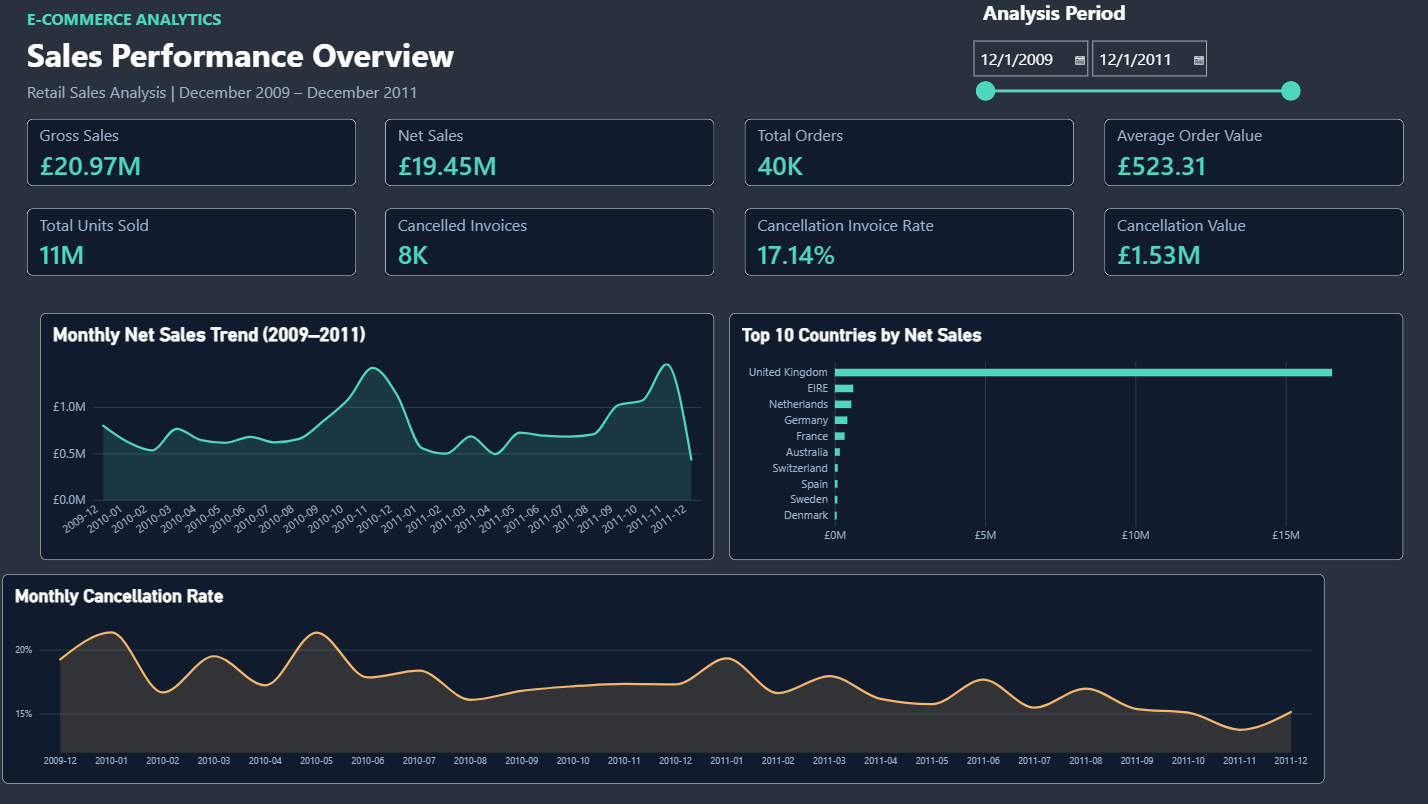

The dashboard page shown, as its layout file describes it:
{"tool":"powerbi","page":{"name":"Executive Overview","canvas":[1920,1080],"ordinal":0},"visuals":[{"type":"cardVisual","fields":{"Data":["Retail_Combined.Gross Sales"]},"box":[40,160,440,90],"z":0},{"type":"cardVisual","fields":{"Data":["Retail_Combined.Total Orders"]},"box":[1000,160,440,90],"z":1000},{"type":"cardVisual","fields":{"Data":["Retail_Combined.Average Order Value"]},"box":[1480,160,400,90],"z":2000},{"type":"cardVisual","fields":{"Data":["Retail_Combined.Total Units Sold"]},"box":[40,280,440,90],"z":3000},{"type":"cardVisual","fields":{"Data":["Retail_Combined.Cancelled Orders"]},"box":[520,280,440,90],"z":4000},{"type":"cardVisual","fields":{"Data":["Retail_Combined.Cancellation Rate"]},"box":[1000,280,440,90],"z":5000},{"type":"cardVisual","fields":{"Data":["Retail_Combined.Cancellation Value"]},"box":[1480,280,400,90],"z":6000},{"type":"cardVisual","fields":{"Data":["Retail_Combined.Net Sales"]},"box":[520,160,440,90],"z":7000},{"type":"lineChart","title":"Monthly Net Sales Trend (2009–2011)","fields":{"Category":["Retail_Combined.YearMonth"],"Y":["Retail_Combined.Net Sales"]},"box":[58.8,419.7,900,330],"z":8000},{"type":"clusteredBarChart","title":"Top 10 Countries by Net Sales","fields":{"Category":["Retail_Combined.Country"],"Y":["Retail_Combined.Net Sales"]},"box":[979.3,419.7,900,330],"z":9000},{"type":"lineChart","title":"Monthly Cancellation Rate","fields":{"Category":["Retail_Combined.YearMonth"],"Y":["Retail_Combined.Cancellation Rate"]},"box":[9.1,767.7,1766,280],"z":10000},{"type":"textbox","box":[40,45,643.9,100],"z":11000},{"type":"textbox","box":[40,110,850,51.2],"z":12000},{"type":"textbox","box":[40,12,440,150],"z":13000},{"type":"slicer","fields":{"Values":["Retail_Combined.MonthStart"]},"box":[1296.9,50,447.4,90.9],"z":14000},{"type":"textbox","box":[1317.4,0,245.3,45.4],"z":15000}]}

Visuals, with their boxes in screenshot pixels (x1, y1, x2, y2), scaled from the page's 1920x1080 canvas onto the 1428x804 screenshot:
cardVisual - Retail_Combined.Gross Sales: pyautogui.locateOnScreen(30, 119, 357, 186)
cardVisual - Retail_Combined.Total Orders: pyautogui.locateOnScreen(744, 119, 1071, 186)
cardVisual - Retail_Combined.Average Order Value: pyautogui.locateOnScreen(1101, 119, 1398, 186)
cardVisual - Retail_Combined.Total Units Sold: pyautogui.locateOnScreen(30, 208, 357, 275)
cardVisual - Retail_Combined.Cancelled Orders: pyautogui.locateOnScreen(387, 208, 714, 275)
cardVisual - Retail_Combined.Cancellation Rate: pyautogui.locateOnScreen(744, 208, 1071, 275)
cardVisual - Retail_Combined.Cancellation Value: pyautogui.locateOnScreen(1101, 208, 1398, 275)
cardVisual - Retail_Combined.Net Sales: pyautogui.locateOnScreen(387, 119, 714, 186)
"Monthly Net Sales Trend (2009–2011)" lineChart: pyautogui.locateOnScreen(44, 312, 713, 558)
"Top 10 Countries by Net Sales" clusteredBarChart: pyautogui.locateOnScreen(728, 312, 1398, 558)
"Monthly Cancellation Rate" lineChart: pyautogui.locateOnScreen(7, 572, 1320, 780)
textbox: pyautogui.locateOnScreen(30, 34, 509, 108)
textbox: pyautogui.locateOnScreen(30, 82, 662, 120)
textbox: pyautogui.locateOnScreen(30, 9, 357, 121)
slicer - Retail_Combined.MonthStart: pyautogui.locateOnScreen(965, 37, 1297, 105)
textbox: pyautogui.locateOnScreen(980, 0, 1162, 34)
